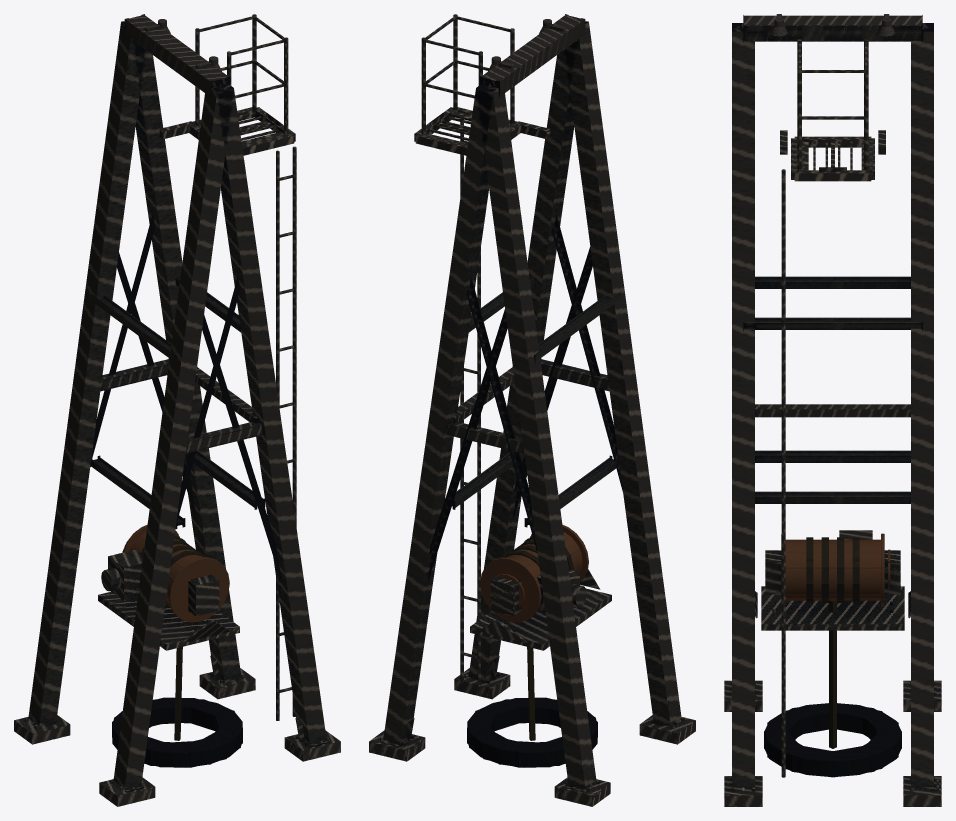
File: derrick.glb
The picture shows the model from 3 angles, left to right: view 1: azimuth 30°, elevation 25°; view 2: azimuth 150°, elevation 25°; view 3: azimuth 270°, elevation 25°; orthographic projection. The views are drawn at different scales.
Visible parts, largest first — view 1: LOD2_derrick, LOD0_derrick, LOD1_derrick, LOD0_drum, LOD1_drum, LOD2_cable; view 2: LOD2_derrick, LOD0_derrick, LOD1_derrick, LOD0_drum, LOD1_drum, LOD2_cable; view 3: LOD2_derrick, LOD0_derrick, LOD1_derrick, LOD0_drum, LOD0_cable, LOD2_cable, LOD1_drum.
Boxes of the visible parts, x1=… form: LOD2_derrick: x1=28, y1=21, x2=326, y2=788; LOD0_derrick: x1=14, y1=14, x2=340, y2=805; LOD1_derrick: x1=14, y1=15, x2=340, y2=806; LOD0_drum: x1=122, y1=524, x2=229, y2=622; LOD1_drum: x1=124, y1=530, x2=229, y2=621; LOD2_cable: x1=166, y1=554, x2=188, y2=740; LOD2_derrick: x1=383, y1=21, x2=681, y2=788; LOD0_derrick: x1=369, y1=14, x2=695, y2=805; LOD1_derrick: x1=369, y1=15, x2=695, y2=806; LOD0_drum: x1=480, y1=524, x2=588, y2=622; LOD1_drum: x1=480, y1=530, x2=586, y2=621; LOD2_cable: x1=527, y1=557, x2=567, y2=740; LOD2_derrick: x1=732, y1=23, x2=933, y2=787; LOD0_derrick: x1=725, y1=15, x2=940, y2=806; LOD1_derrick: x1=724, y1=15, x2=941, y2=806; LOD0_drum: x1=781, y1=534, x2=890, y2=605; LOD0_cable: x1=806, y1=537, x2=859, y2=602; LOD2_cable: x1=829, y1=600, x2=836, y2=748; LOD1_drum: x1=781, y1=533, x2=884, y2=606.
Size of the model in its own units: 2.12 by 6.35 by 1.7.
6 materials, 6 textured.
